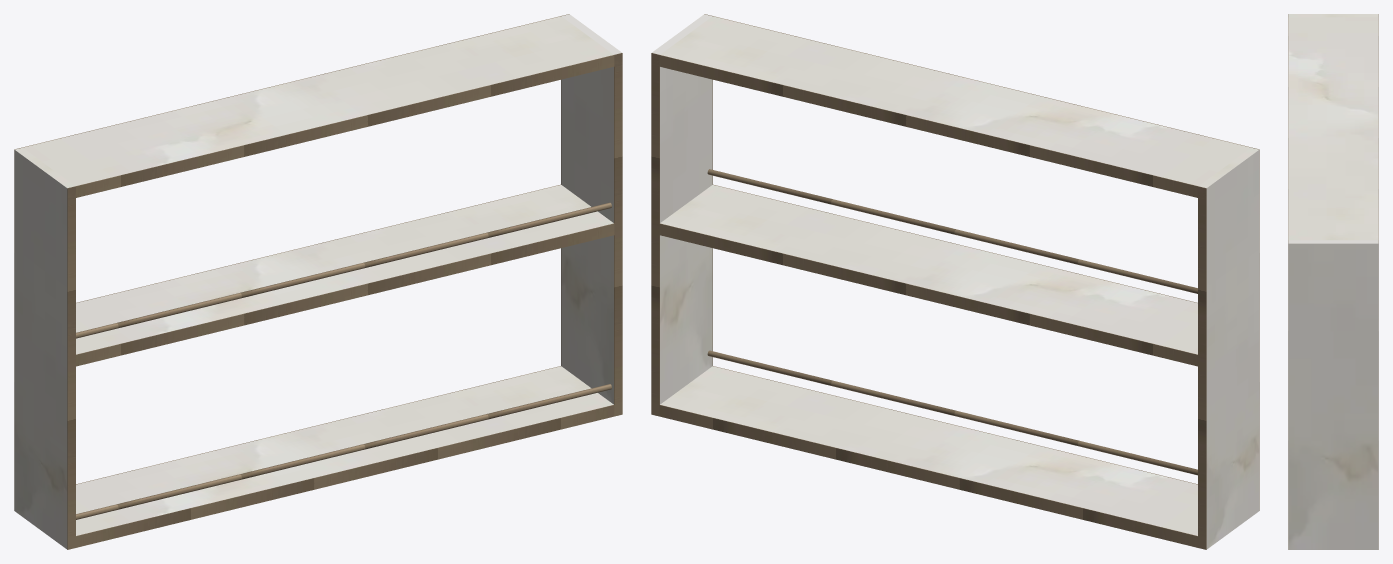
File: Tark 900mm.glb
The picture shows the model from 3 angles, left to right: view 1: azimuth 30°, elevation 25°; view 2: azimuth 150°, elevation 25°; view 3: azimuth 270°, elevation 25°; orthographic projection. The views are drawn at different scales.
Bounding box in the file's own units: 0.9 × 0.56 × 0.15.
2 materials, 2 textured.
